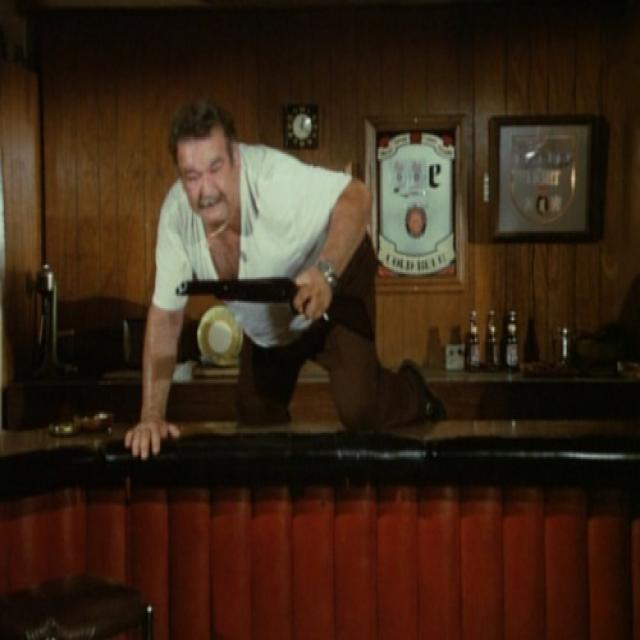rifle: (173, 276, 304, 308)
